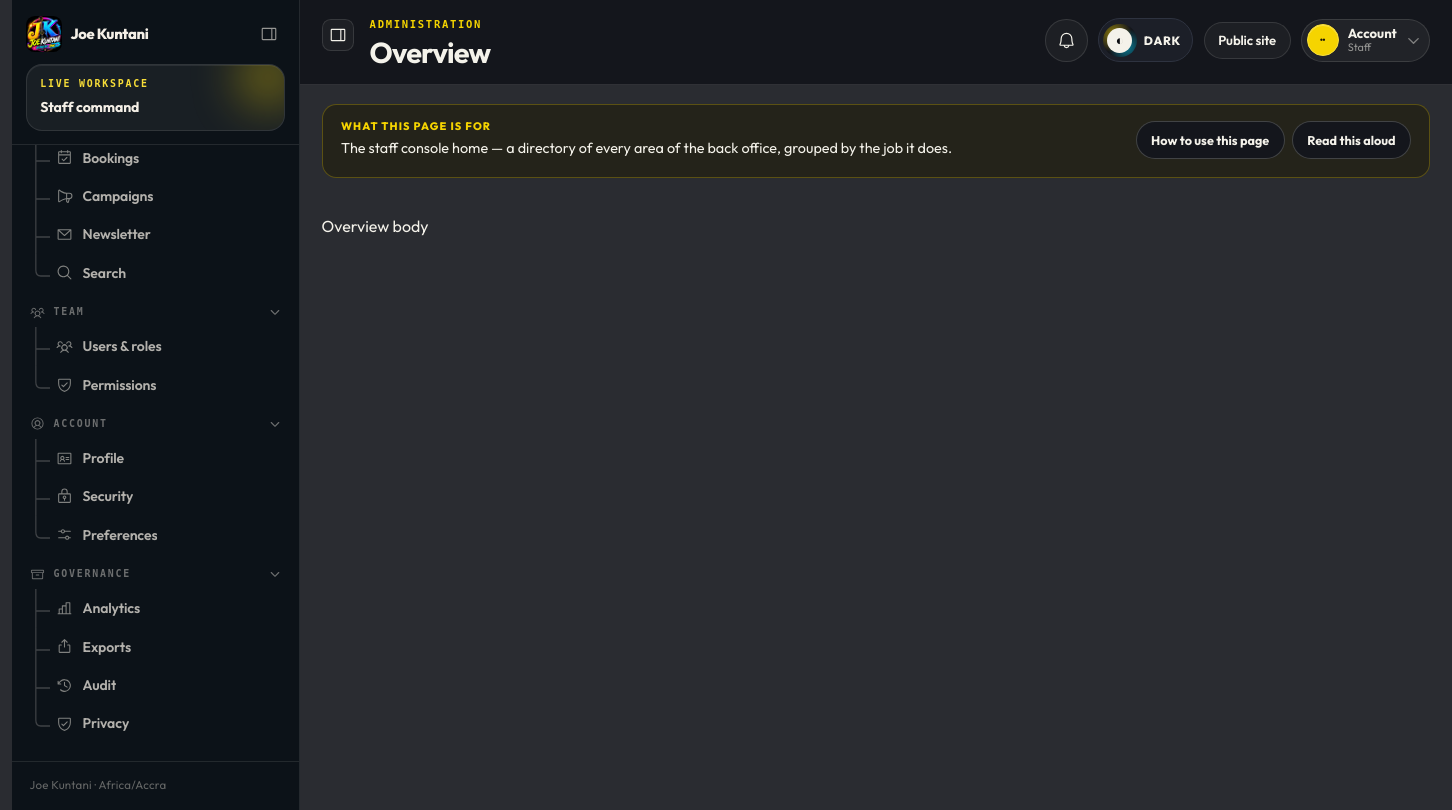
Scenario: AdminShell › collapses a nav group when its heading is toggled
The image size is (1452, 810).
(page scrolled)
Click the button "Governance".
click(92, 574)  # box 12,559 -> 299,589
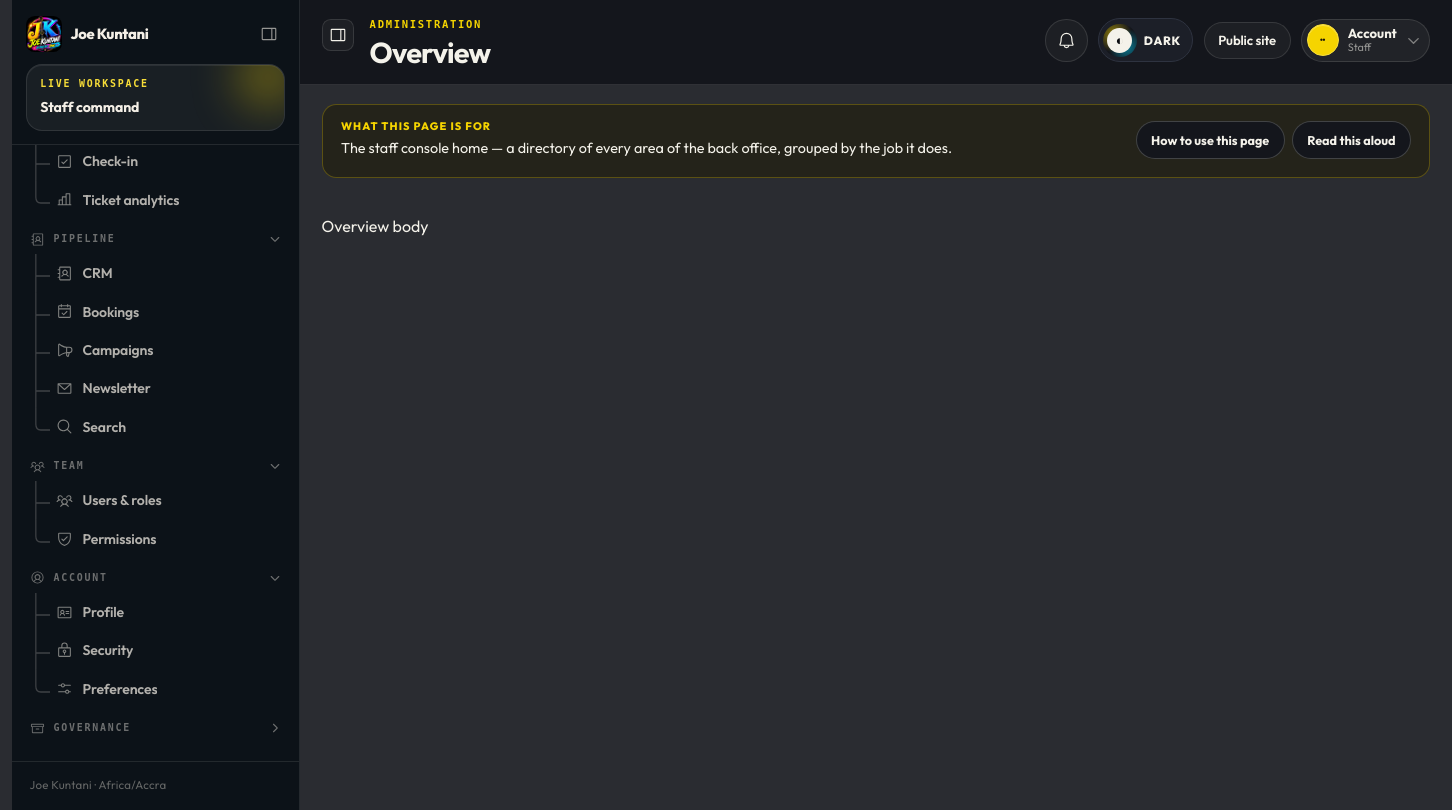
Check: the button "Governance" is collapsed, box 12,713 -> 299,743
